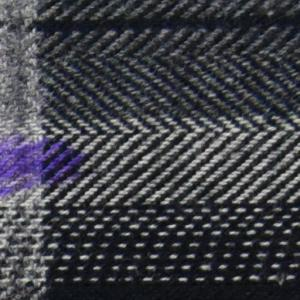Stain: (1, 128, 97, 204)
